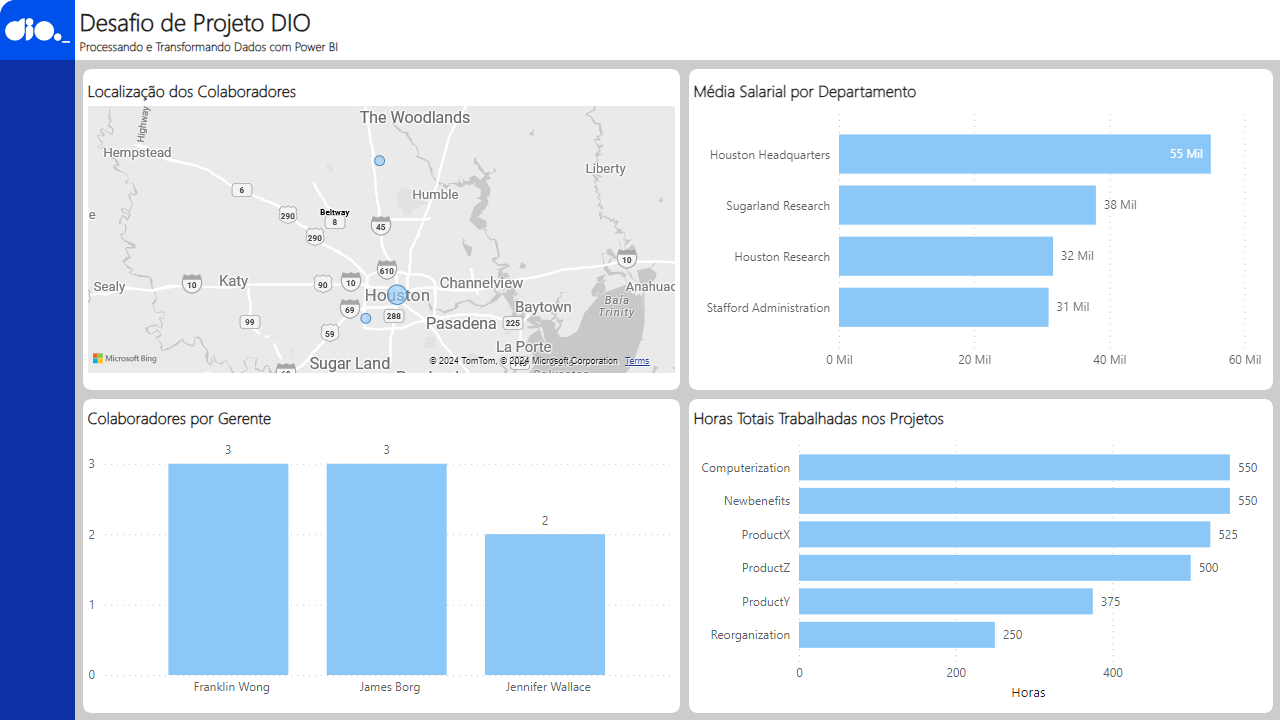

This screenshot's page, from the dashboard's own definition file:
{"tool":"powerbi","page":{"name":"Página 1","canvas":[1280,720],"ordinal":0},"visuals":[{"type":"group","id":"g1","title":"background_elements","box":[0,0,1280,720],"z":0},{"type":"shape","box":[0,60,1280,660],"z":0,"group":"g1"},{"type":"shape","box":[0,60,1280,660],"z":0,"group":"g2"},{"type":"group","id":"g2","title":"background_elements","box":[0,0,1280,720],"z":1000},{"type":"shape","box":[83,69,597,321],"z":1000,"group":"g1"},{"type":"shape","box":[83,69,597,321],"z":1000,"group":"g2"},{"type":"shape","box":[0,60,75,660],"z":2000,"group":"g1"},{"type":"shape","box":[0,60,75,660],"z":2000,"group":"g2"},{"type":"shape","box":[689,69,584,321],"z":2000},{"type":"shape","box":[0,0,75,60],"z":3000,"group":"g1"},{"type":"shape","box":[0,0,75,60],"z":3000,"group":"g2"},{"type":"shape","box":[689,399,584,314],"z":3000},{"type":"image","box":[0,0,75,60],"z":4000,"group":"g1"},{"type":"image","box":[0,0,75,60],"z":4000,"group":"g2"},{"type":"shape","box":[83,399,597,314],"z":4000},{"type":"map","title":"Localização dos Colaboradores","fields":{"Category":["data-1712840379469.city"],"Size":["CountNonNull(data-1712840379469.ssn)"]},"box":[83,80,597,298],"z":5000},{"type":"clusteredBarChart","title":"Horas Totais Trabalhadas nos Projetos","fields":{"Category":["data-1712840275375.pname"],"Y":["Sum(data-1712840275375.hours_count)"]},"box":[689,407,584,298],"z":6000},{"type":"clusteredColumnChart","title":"Colaboradores por Gerente","fields":{"Category":["data-1712840372717.mgr_name"],"Y":["Sum(data-1712840372717.employee_count)"]},"box":[83,407,597,298],"z":7000},{"type":"clusteredBarChart","title":"Média Salarial por Departamento","fields":{"Category":["data-1712840379469.dept_locname"],"Y":["Avg(data-1712840379469.salary)"]},"box":[689,80,584,298],"z":7001},{"type":"textbox","box":[75,0,307,60],"z":7002}]}

Visuals, with their boxes in screenshot pixels (x1, y1, x2, y2), scaled from the page's 1280x720 canvas onto the 1280x720 screenshot:
"background_elements" group: <region>0, 0, 1279, 719</region>
shape: <region>0, 60, 1279, 719</region>
shape: <region>0, 60, 1279, 719</region>
"background_elements" group: <region>0, 0, 1279, 719</region>
shape: <region>83, 69, 680, 390</region>
shape: <region>83, 69, 680, 390</region>
shape: <region>0, 60, 75, 719</region>
shape: <region>0, 60, 75, 719</region>
shape: <region>689, 69, 1273, 390</region>
shape: <region>0, 0, 75, 60</region>
shape: <region>0, 0, 75, 60</region>
shape: <region>689, 399, 1273, 713</region>
image: <region>0, 0, 75, 60</region>
image: <region>0, 0, 75, 60</region>
shape: <region>83, 399, 680, 713</region>
"Localização dos Colaboradores" map: <region>83, 80, 680, 378</region>
"Horas Totais Trabalhadas nos Projetos" clusteredBarChart: <region>689, 407, 1273, 705</region>
"Colaboradores por Gerente" clusteredColumnChart: <region>83, 407, 680, 705</region>
"Média Salarial por Departamento" clusteredBarChart: <region>689, 80, 1273, 378</region>
textbox: <region>75, 0, 382, 60</region>
